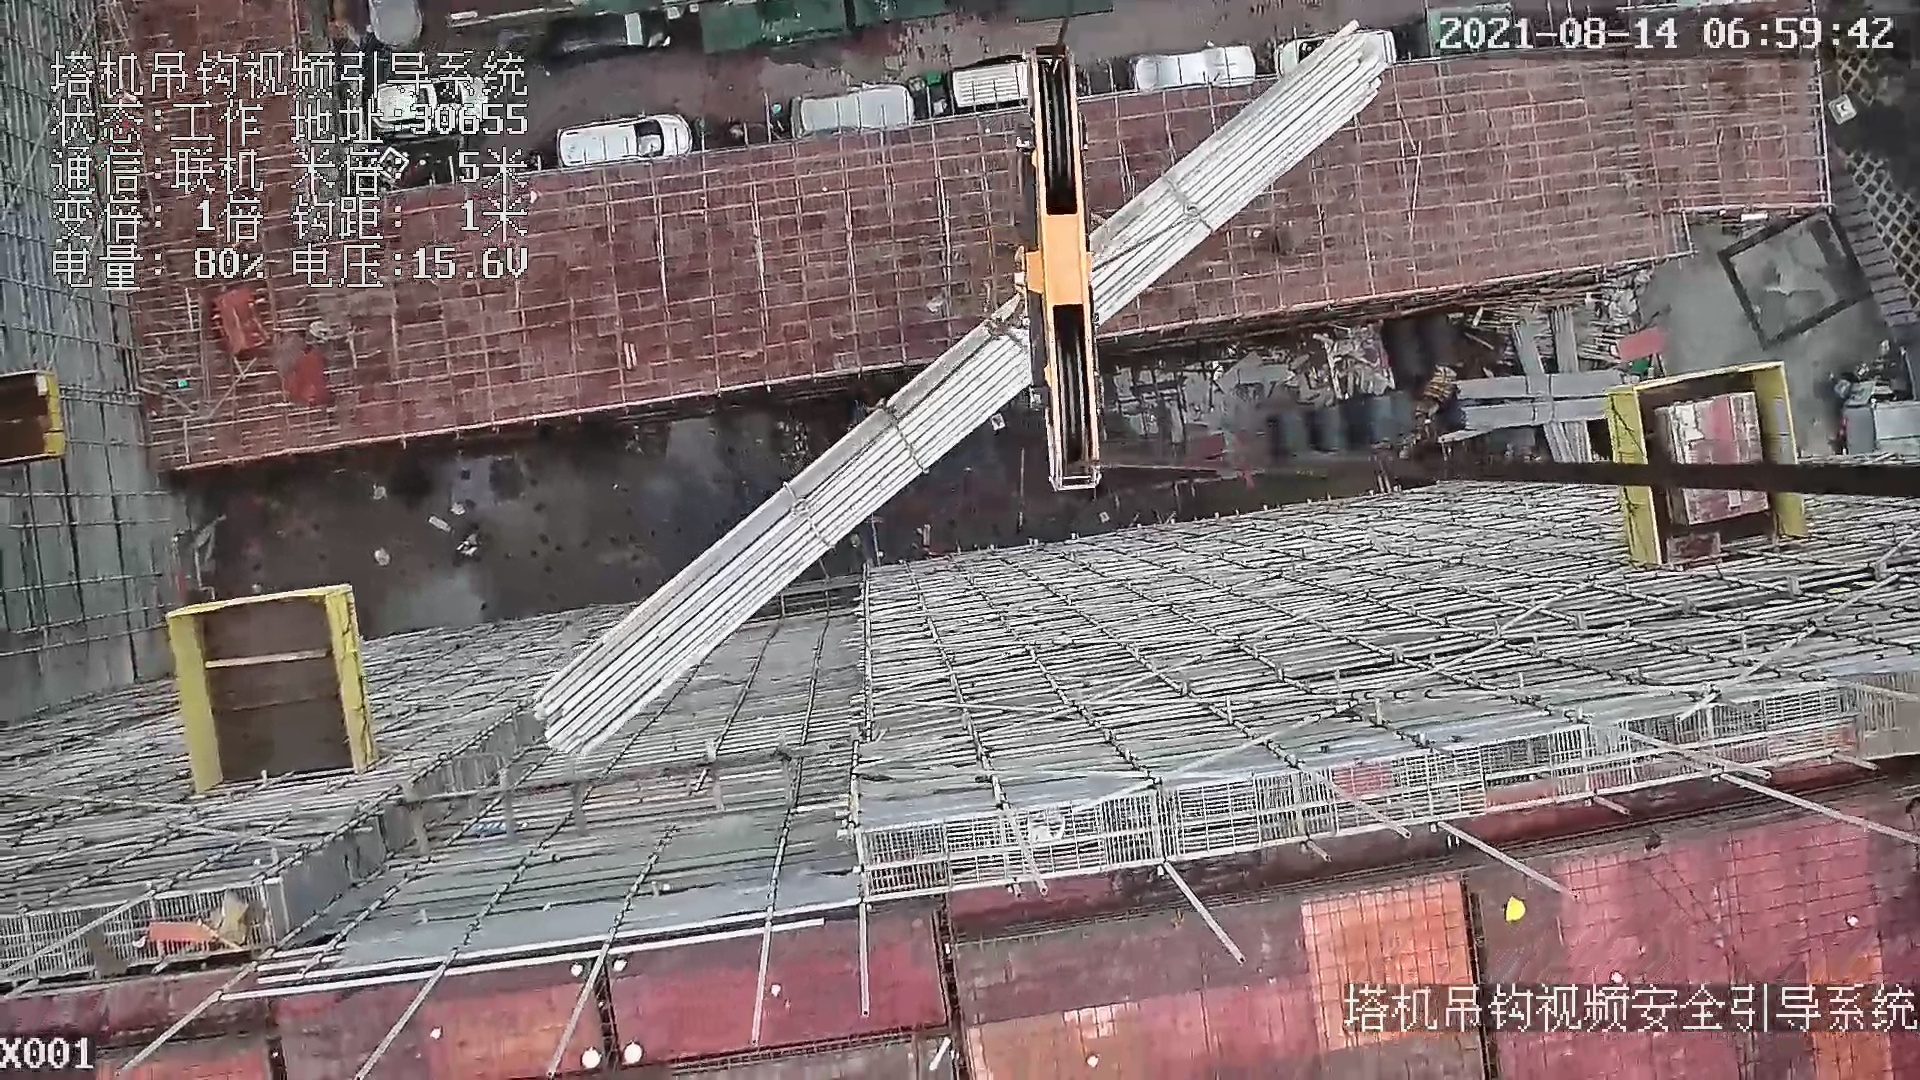board: (1658, 392, 1771, 531)
helmet: (1505, 894, 1524, 922)
hook: (1001, 33, 1108, 491)
rebar: (535, 26, 1389, 757), (1455, 369, 1625, 404), (1451, 397, 1607, 434), (1549, 309, 1584, 373), (1509, 320, 1545, 375)
